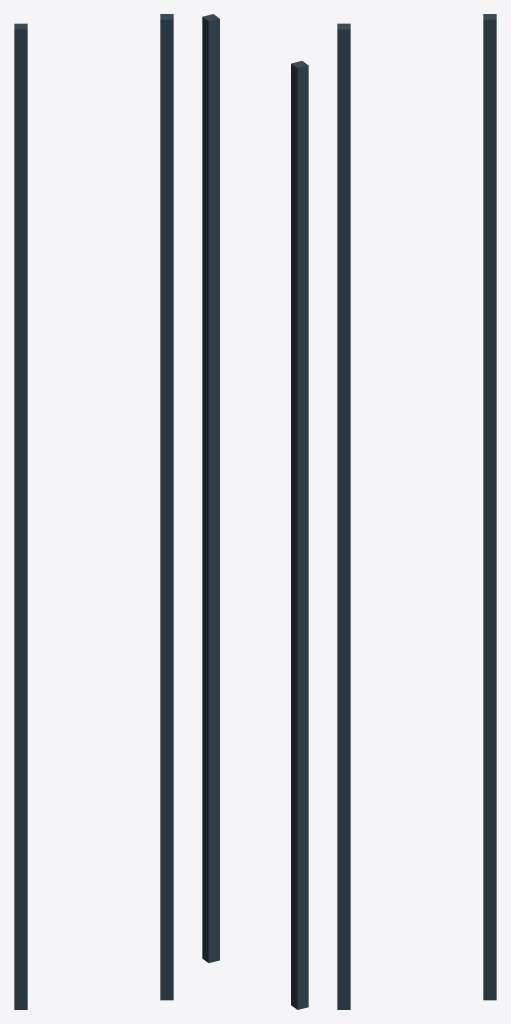
The model's file is v02-transit-world-01-01-06.glb.
The picture shows the model from 3 angles, left to right: view 1: azimuth 90°, elevation 25°; view 2: azimuth 210°, elevation 25°; view 3: azimuth 270°, elevation 25°; orthographic projection. The views are drawn at different scales.
Parts seen in each view (by area): view 1: v02-transit-world-01-01-06; view 2: v02-transit-world-01-01-06; view 3: v02-transit-world-01-01-06.
Part boxes in pixels (x1,y1,x2,y2): v02-transit-world-01-01-06: (14, 14, 173, 1009); v02-transit-world-01-01-06: (202, 14, 308, 1009); v02-transit-world-01-01-06: (337, 14, 496, 1009).
Size of the model in its own units: 3.2 by 96.25 by 14.2.
